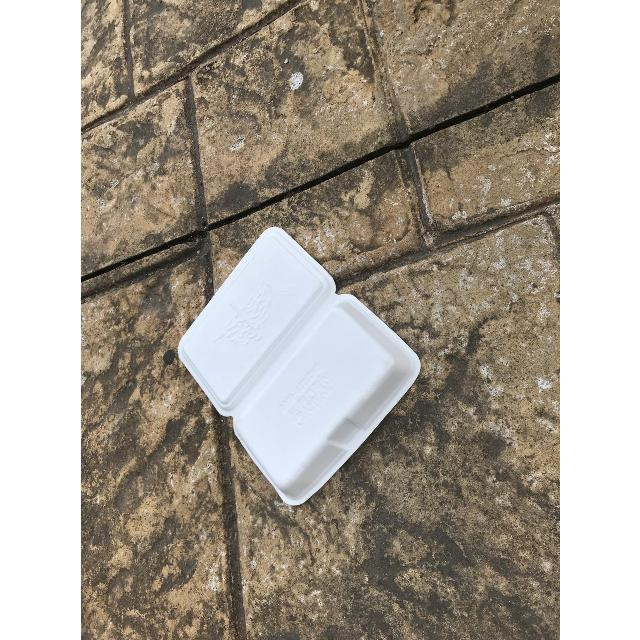Plastico descartable: (176, 228, 422, 509)
